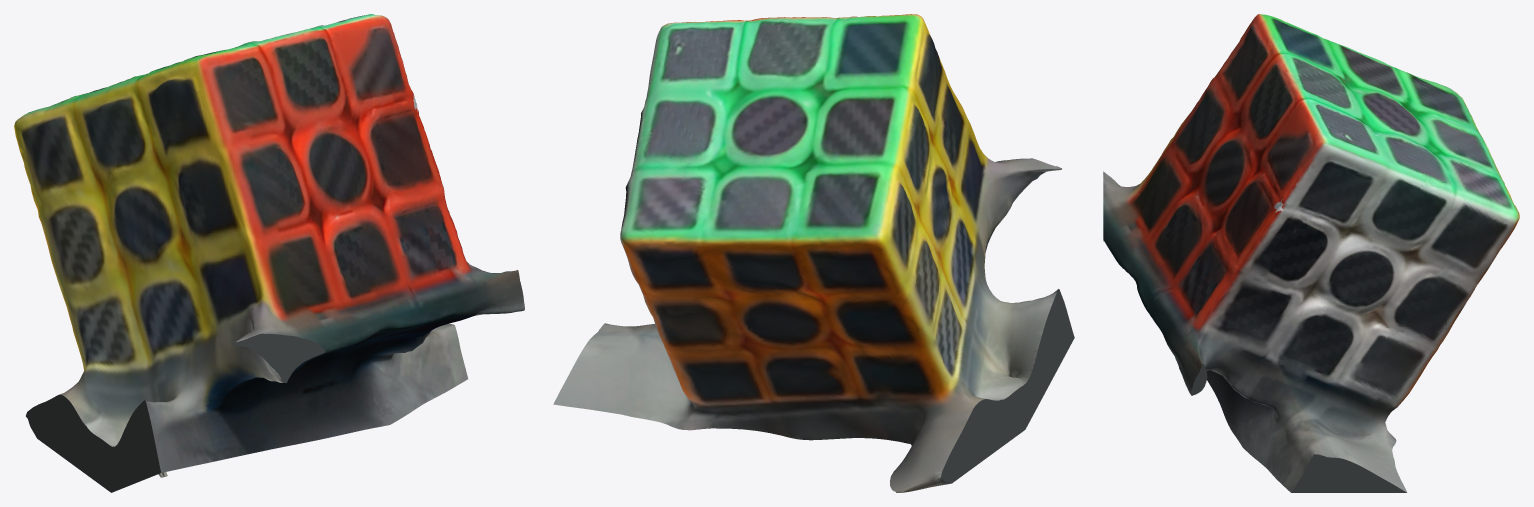
3 renders of one model, left to right at view 1: azimuth 30°, elevation 25°; view 2: azimuth 150°, elevation 25°; view 3: azimuth 270°, elevation 25°, orthographic. The views are drawn at different scales.
Parts seen in each view (by area): view 1: 3DModel; view 2: 3DModel; view 3: 3DModel.
Part boxes in pixels (<box>): 3DModel: <box>14,14,524,492</box>; 3DModel: <box>553,14,1074,492</box>; 3DModel: <box>1103,14,1519,492</box>.
Bounding box in the file's own units: 0.2799 × 0.2801 × 0.2969.
1 material, 1 textured.
